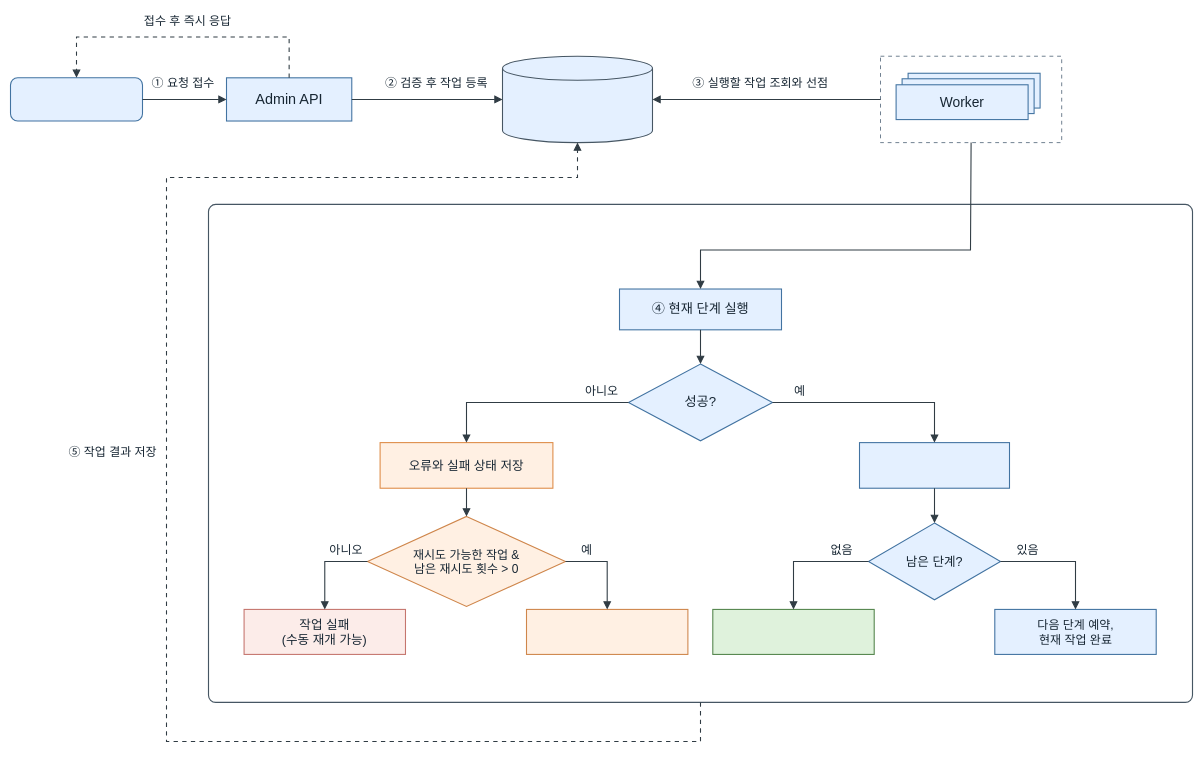
Some shapes in this 1204 by 759 pixel diagram are drawn without their labels. Here are the shapes that lost their labels. From the top down, the box of each, then its label:
(10, 77, 143, 121): 업로드 요청
(502, 55, 653, 143): PostgreSQL 작업 정보, 상태와 오류
(859, 442, 1010, 488): 결과와 상태 저장
(526, 609, 688, 655): 작업 재예약 (지수 백오프 적용)
(712, 609, 874, 655): 작업 성공
